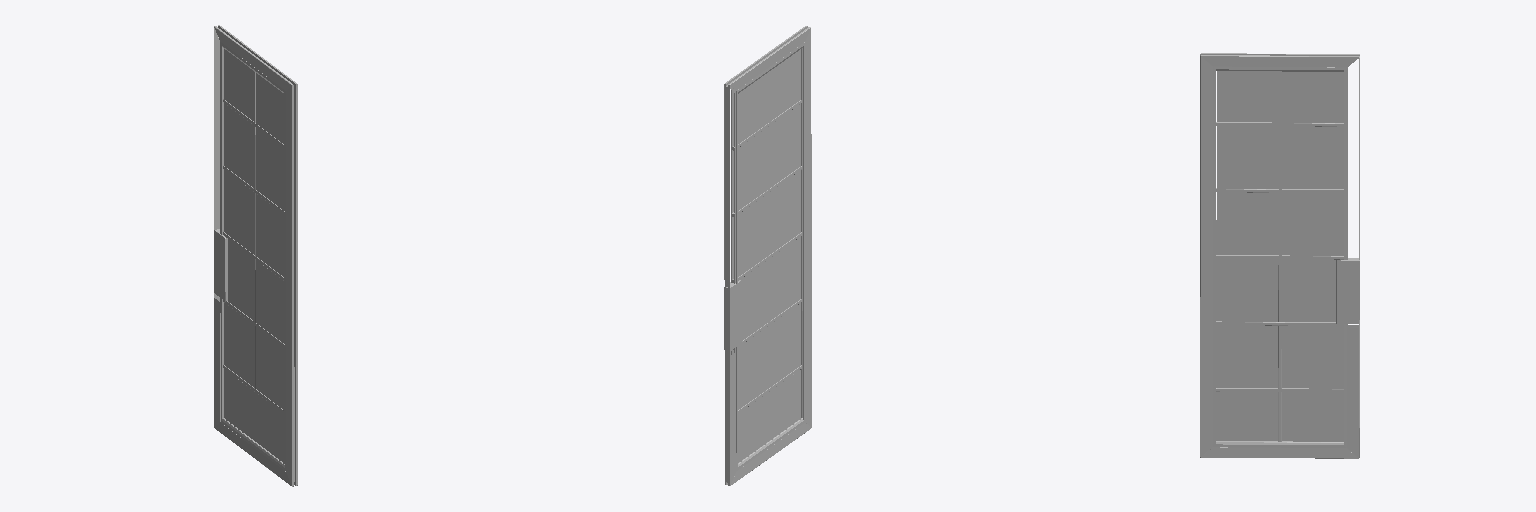
File: VentanaT2_4.obj
3 views of the same model, side by side, from view 1: azimuth 30°, elevation 25°; view 2: azimuth 150°, elevation 25°; view 3: azimuth 270°, elevation 25° (orthographic).
Parts seen in each view (by area): view 1: Box2657; view 2: Box2657; view 3: Box2657.
Boxes of the visible parts, box(x1,y1,x2,y2) form: Box2657: box(214, 25, 297, 486); Box2657: box(724, 26, 811, 485); Box2657: box(1200, 53, 1359, 458).
Bounding box in the file's own units: 0.0186 × 0.9162 × 0.3303.